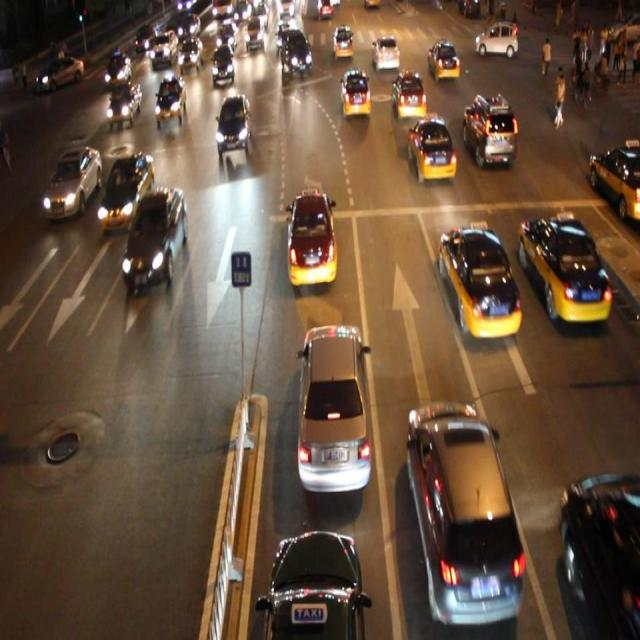car: (405, 397, 521, 621), (554, 468, 640, 640), (294, 320, 370, 493), (267, 530, 364, 640), (517, 211, 610, 324), (439, 221, 521, 337), (125, 185, 186, 289), (287, 192, 335, 284), (584, 139, 640, 216), (98, 152, 153, 228), (463, 92, 516, 168), (47, 148, 100, 218), (409, 115, 455, 184), (216, 96, 250, 152), (391, 67, 425, 120), (340, 67, 371, 118), (108, 82, 141, 124), (154, 76, 186, 118), (280, 29, 310, 72), (426, 41, 459, 80), (372, 33, 399, 70), (106, 50, 131, 85), (211, 47, 235, 81), (180, 37, 202, 71)
